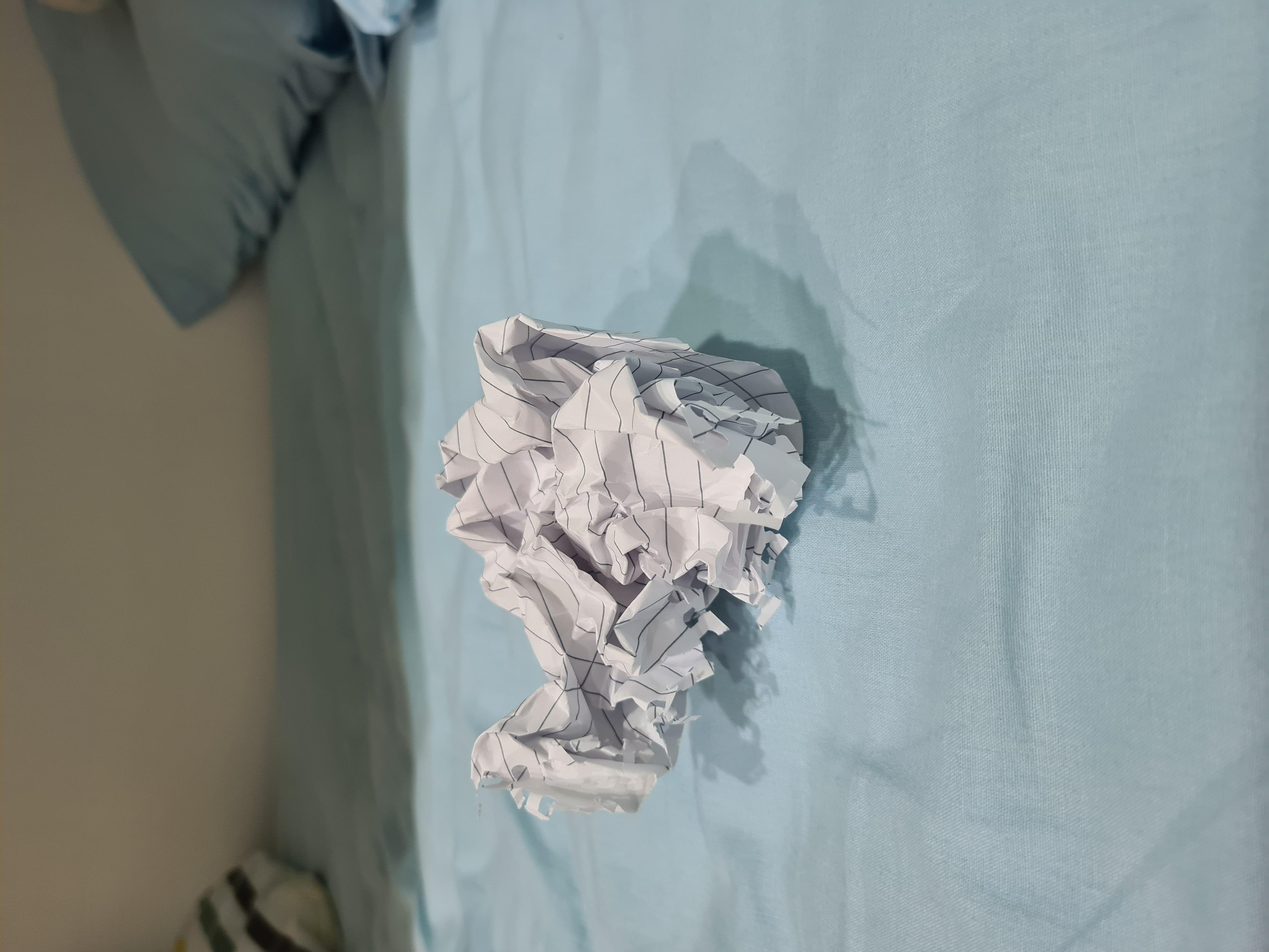paper: (190, 333, 854, 605)
